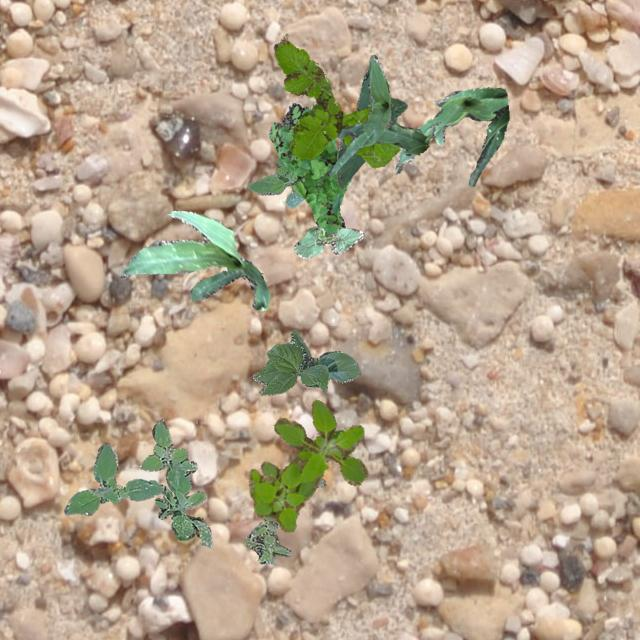crop: (119, 210, 268, 310), (327, 54, 428, 176), (394, 86, 508, 186), (336, 60, 406, 186), (250, 328, 360, 393), (294, 226, 362, 258)
weed: (64, 418, 212, 548), (272, 36, 398, 166), (248, 398, 366, 532), (268, 102, 349, 234), (243, 478, 324, 562), (246, 152, 304, 206)
